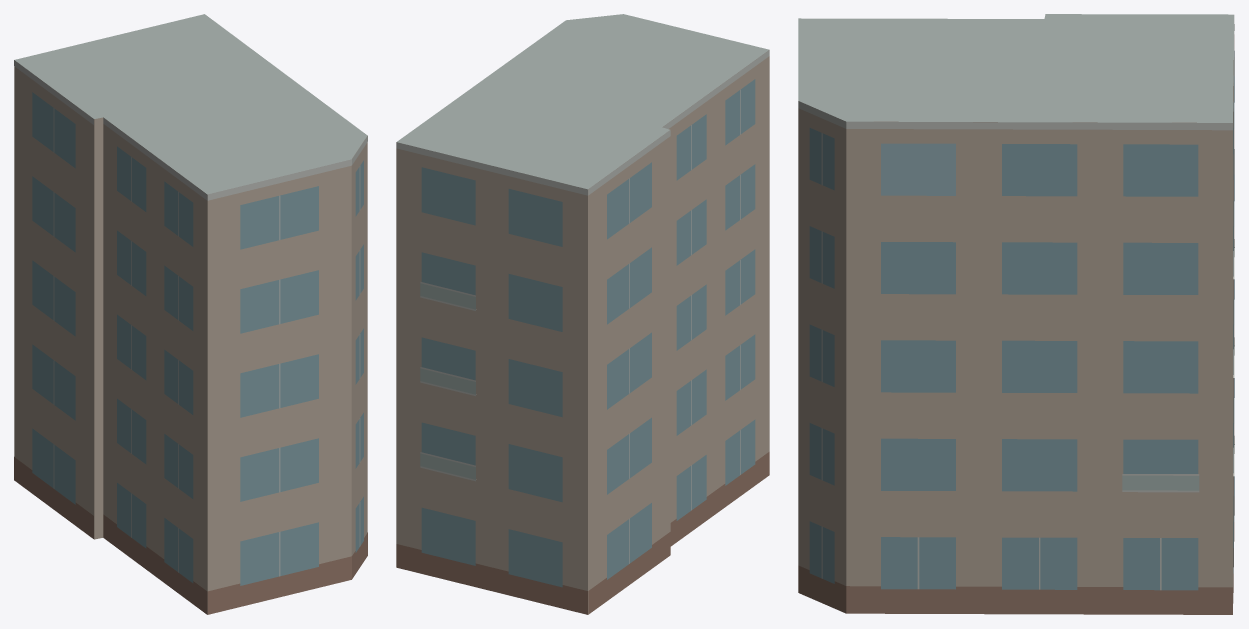
Rendered from survey-upis-32737661.glb.
The picture shows the model from 3 angles, left to right: view 1: azimuth 30°, elevation 25°; view 2: azimuth 150°, elevation 25°; view 3: azimuth 270°, elevation 25°; orthographic projection. The views are drawn at different scales.
Parts seen in each view (by area): view 1: survey-upis-32737661.tmp; view 2: survey-upis-32737661.tmp; view 3: survey-upis-32737661.tmp.
Boxes of the visible parts, box(x1,y1,x2,y2) form: survey-upis-32737661.tmp: box(14, 14, 367, 614); survey-upis-32737661.tmp: box(396, 14, 769, 614); survey-upis-32737661.tmp: box(798, 14, 1234, 614).
Size of the model in its own units: 7.82 by 16.4 by 13.2.
